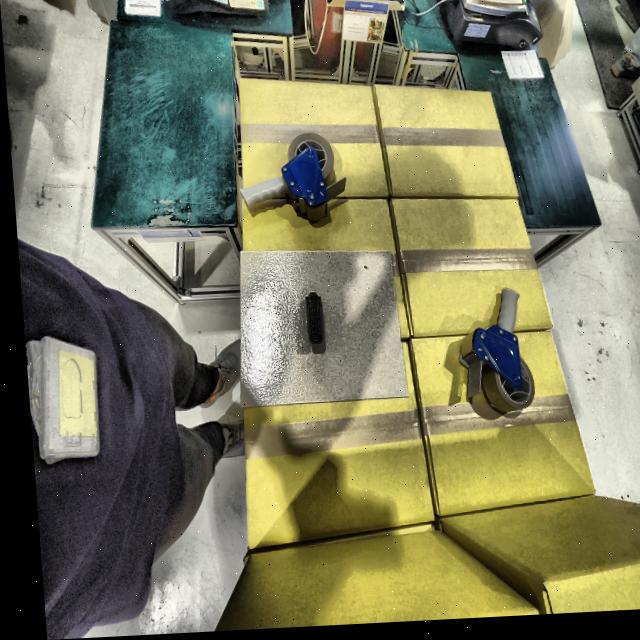P38: (301, 296, 319, 348)
